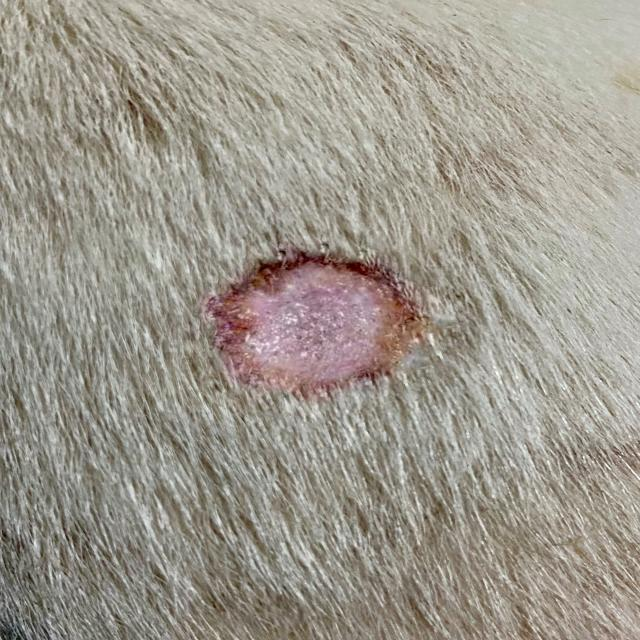ringworm: (194, 249, 436, 401)
